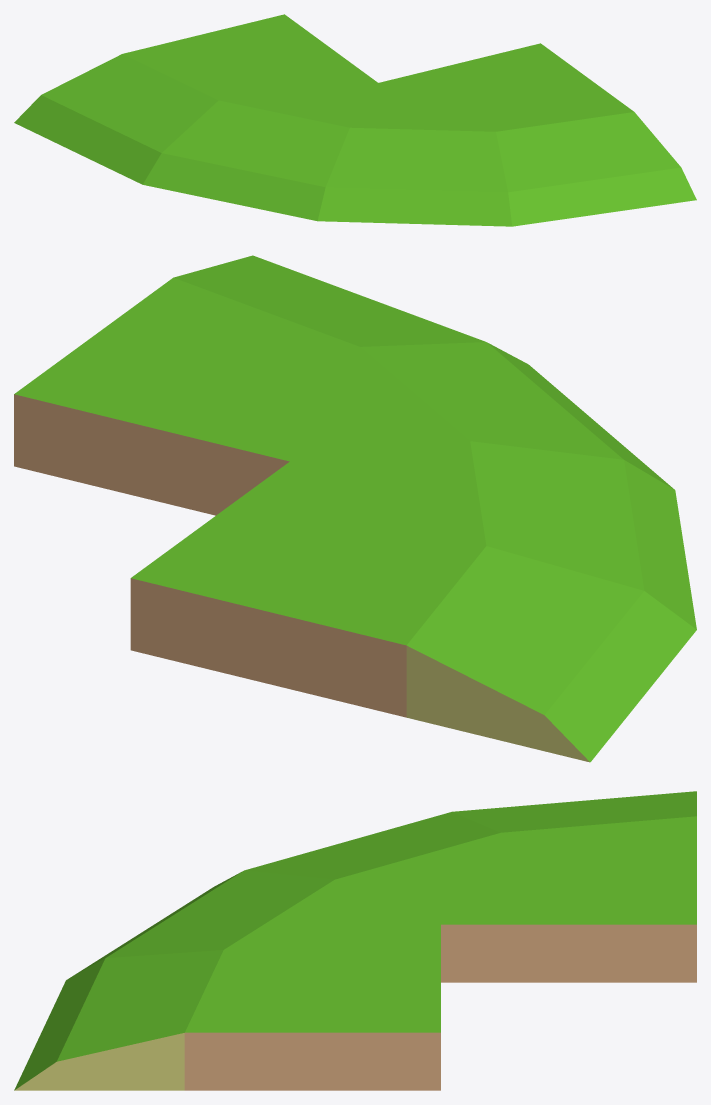
Rendered from Grass_Carpet_Curve_Outer_3x3.glb.
3 views of the same model, one above another, from view 1: azimuth 30°, elevation 25°; view 2: azimuth 150°, elevation 25°; view 3: azimuth 270°, elevation 25° (orthographic). The views are drawn at different scales.
Parts seen in each view (by area): view 1: Grass_Carpet_Curve_Outer_3x3; view 2: Grass_Carpet_Curve_Outer_3x3; view 3: Grass_Carpet_Curve_Outer_3x3.
Boxes of the visible parts, <box> form: Grass_Carpet_Curve_Outer_3x3: <box>14,14,696,226</box>; Grass_Carpet_Curve_Outer_3x3: <box>14,255,696,762</box>; Grass_Carpet_Curve_Outer_3x3: <box>14,791,696,1090</box>.
Size of the model in its own units: 267 by 25 by 267.
